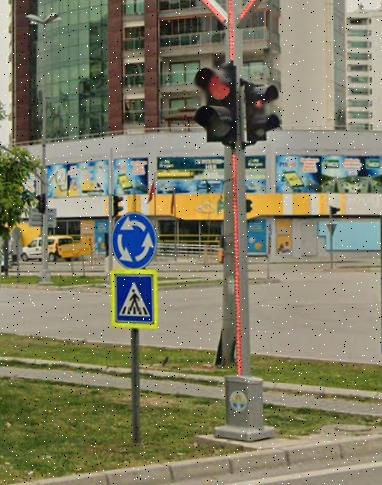crossroads: (116, 207, 152, 268)
redlight: (202, 63, 237, 143)
